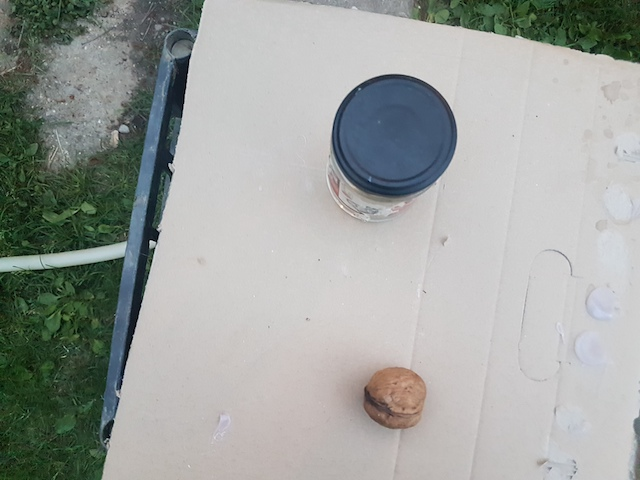nut: (361, 366, 429, 430)
recipient: (333, 70, 459, 201)
